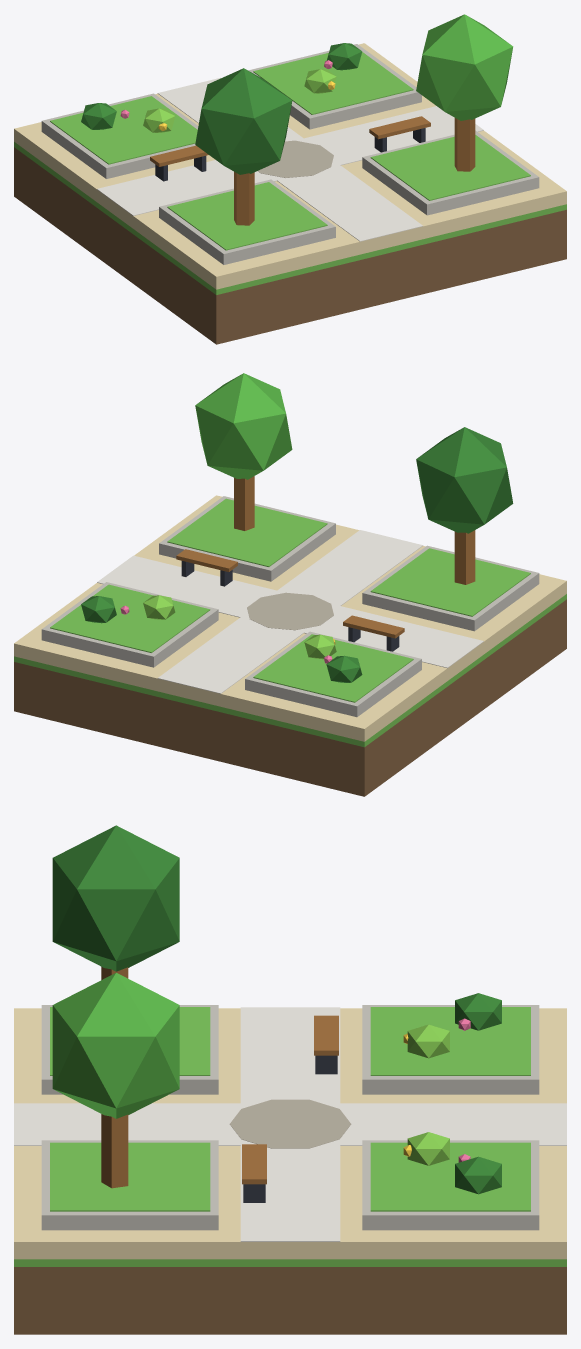
Rendered from praca.glb.
The picture shows the model from 3 angles, top to bottom: view 1: azimuth 30°, elevation 25°; view 2: azimuth 150°, elevation 25°; view 3: azimuth 270°, elevation 25°; orthographic projection. The views are drawn at different scales.
Visible parts, largest first — view 1: corpo; view 2: corpo; view 3: corpo.
Boxes of the visible parts, x1,y1,x2,y2 form: corpo: [14, 14, 566, 344]; corpo: [14, 373, 566, 796]; corpo: [14, 825, 566, 1334].
Size of the model in its own units: 2 by 1.27 by 2.
